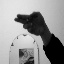h: (12, 10, 49, 37)
